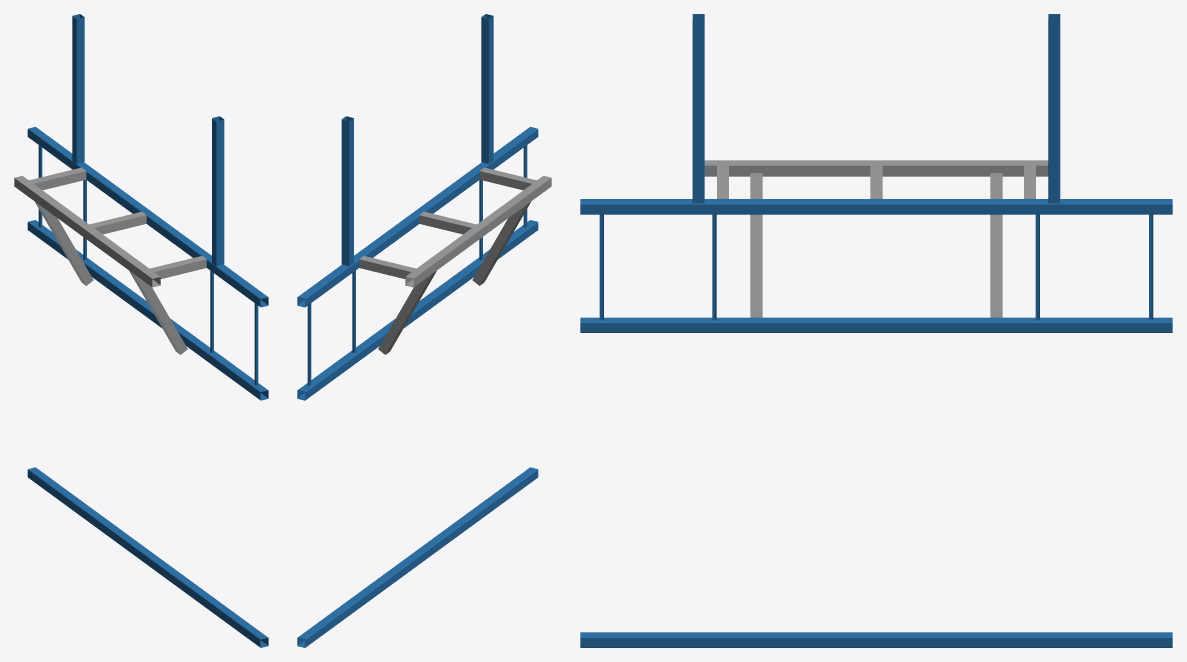
The model's file is Phase51 (2).fbx.
3 renders of one model, left to right at view 1: azimuth 30°, elevation 25°; view 2: azimuth 150°, elevation 25°; view 3: azimuth 270°, elevation 25°, orthographic. The views are drawn at different scales.
Parts seen in each view (by area): view 1: Профили_гнутые_замкнутые_сварные_прямоугольные_ГОСТ_30245_20 (×6), ADSK_КаркасНесущий_Труба_ГОСТ 30245-2003:б 140x6:758102, ADSK_КаркасНесущий_Труба_ГОСТ 30245-2003:б 140x6:756487, ADSK_КаркасНесущий_Труба_ГОСТ 30245-2003:б 140x6:756529, ADSK_КаркасНесущий_Труба_ГОСТ 30245-2003:б 140x6:756589, ADSK_КаркасНесущий_Труба_ГОСТ 30245-2003:б 140x6:757295, ADSK_КаркасНесущий_Швеллер_ПолкаНаклонная_ГОСТ 8240-97:Швелл; view 2: Профили_гнутые_замкнутые_сварные_прямоугольные_ГОСТ_30245_20 (×6), ADSK_КаркасНесущий_Труба_ГОСТ 30245-2003:б 140x6:758102, ADSK_КаркасНесущий_Труба_ГОСТ 30245-2003:б 140x6:756487, ADSK_КаркасНесущий_Труба_ГОСТ 30245-2003:б 140x6:756529, ADSK_КаркасНесущий_Труба_ГОСТ 30245-2003:б 140x6:757295, ADSK_КаркасНесущий_Труба_ГОСТ 30245-2003:б 140x6:756589, ADSK_КаркасНесущий_Швеллер_ПолкаНаклонная_ГОСТ 8240-97:Швелл; view 3: ADSK_КаркасНесущий_Труба_ГОСТ 30245-2003:б 140x6:758102, ADSK_КаркасНесущий_Труба_ГОСТ 30245-2003:б 140x6:756529, ADSK_КаркасНесущий_Труба_ГОСТ 30245-2003:б 140x6:756487, Профили_гнутые_замкнутые_сварные_прямоугольные_ГОСТ_30245_20 (×3), ADSK_КаркасНесущий_Труба_ГОСТ 30245-2003:б 140x6:756589, ADSK_КаркасНесущий_Труба_ГОСТ 30245-2003:б 140x6:757295.
Part boxes in pixels (left/top/right/bottom): Профили_гнутые_замкнутые_сварные_прямоугольные_ГОСТ_30245_20 (×6): left=14, top=167, right=206, bottom=354; ADSK_КаркасНесущий_Труба_ГОСТ 30245-2003:б 140x6:758102: left=27, top=467, right=268, bottom=647; ADSK_КаркасНесущий_Труба_ГОСТ 30245-2003:б 140x6:756487: left=27, top=127, right=268, bottom=307; ADSK_КаркасНесущий_Труба_ГОСТ 30245-2003:б 140x6:756529: left=27, top=220, right=268, bottom=400; ADSK_КаркасНесущий_Труба_ГОСТ 30245-2003:б 140x6:756589: left=212, top=116, right=224, bottom=266; ADSK_КаркасНесущий_Труба_ГОСТ 30245-2003:б 140x6:757295: left=72, top=14, right=84, bottom=163; ADSK_КаркасНесущий_Швеллер_ПолкаНаклонная_ГОСТ 8240-97:Швелл: left=254, top=303, right=258, bottom=385; Профили_гнутые_замкнутые_сварные_прямоугольные_ГОСТ_30245_20 (×6): left=359, top=167, right=551, bottom=354; ADSK_КаркасНесущий_Труба_ГОСТ 30245-2003:б 140x6:758102: left=297, top=467, right=538, bottom=647; ADSK_КаркасНесущий_Труба_ГОСТ 30245-2003:б 140x6:756487: left=297, top=127, right=538, bottom=307; ADSK_КаркасНесущий_Труба_ГОСТ 30245-2003:б 140x6:756529: left=297, top=220, right=538, bottom=400; ADSK_КаркасНесущий_Труба_ГОСТ 30245-2003:б 140x6:757295: left=341, top=116, right=353, bottom=266; ADSK_КаркасНесущий_Труба_ГОСТ 30245-2003:б 140x6:756589: left=481, top=14, right=493, bottom=163; ADSK_КаркасНесущий_Швеллер_ПолкаНаклонная_ГОСТ 8240-97:Швелл: left=307, top=303, right=311, bottom=385; ADSK_КаркасНесущий_Труба_ГОСТ 30245-2003:б 140x6:758102: left=580, top=632, right=1172, bottom=647; ADSK_КаркасНесущий_Труба_ГОСТ 30245-2003:б 140x6:756529: left=580, top=317, right=1172, bottom=332; ADSK_КаркасНесущий_Труба_ГОСТ 30245-2003:б 140x6:756487: left=580, top=199, right=1172, bottom=214; Профили_гнутые_замкнутые_сварные_прямоугольные_ГОСТ_30245_20 (×3): left=704, top=160, right=1048, bottom=317; ADSK_КаркасНесущий_Труба_ГОСТ 30245-2003:б 140x6:756589: left=692, top=14, right=704, bottom=203; ADSK_КаркасНесущий_Труба_ГОСТ 30245-2003:б 140x6:757295: left=1048, top=14, right=1060, bottom=203.
Bounding box in the file's own units: 1165 × 6791 × 7960.
